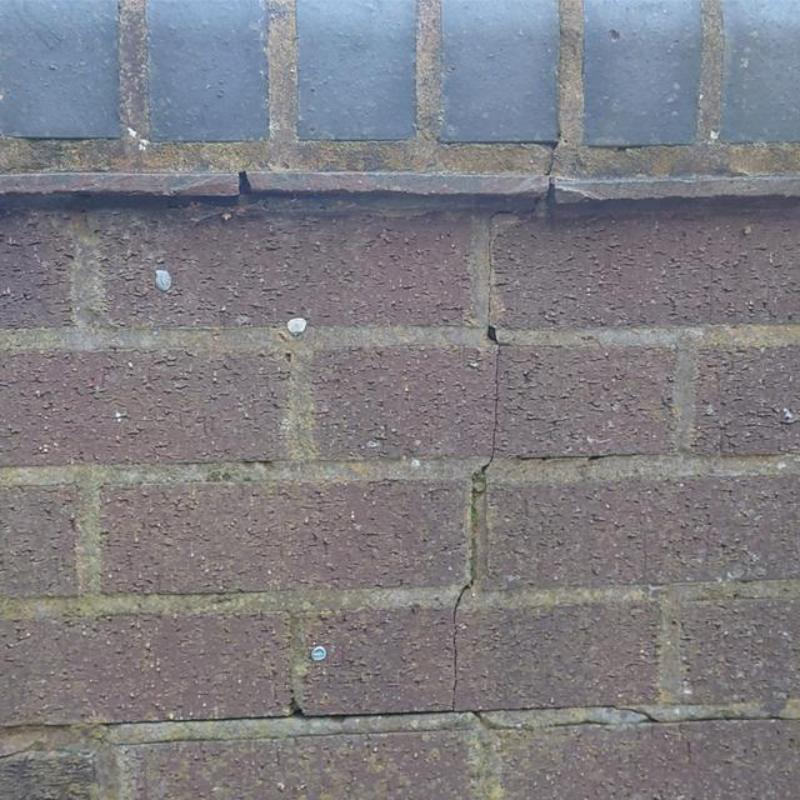pothole: (106, 691, 584, 728), (488, 197, 538, 316), (471, 711, 612, 730), (453, 585, 471, 691), (482, 356, 498, 475), (583, 705, 662, 722), (471, 487, 484, 587), (666, 716, 799, 724), (520, 453, 636, 461), (544, 142, 559, 176), (487, 325, 511, 346)
